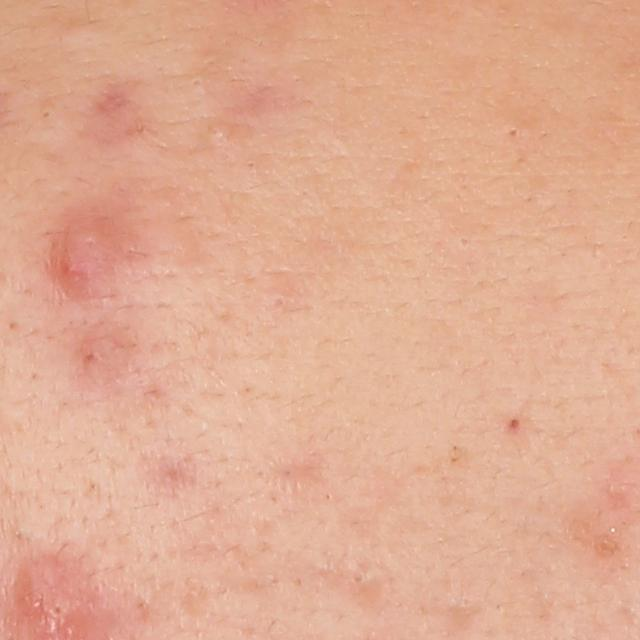comedo: (208, 124, 231, 145), (273, 292, 289, 311)
papule: (57, 216, 119, 289)
